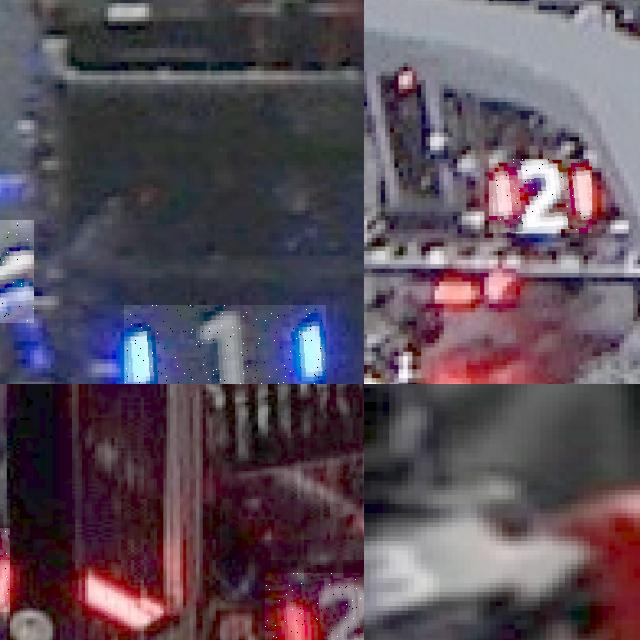B1: (124, 305, 325, 384), (0, 219, 34, 323)
R2: (489, 159, 592, 233), (265, 572, 364, 640)
